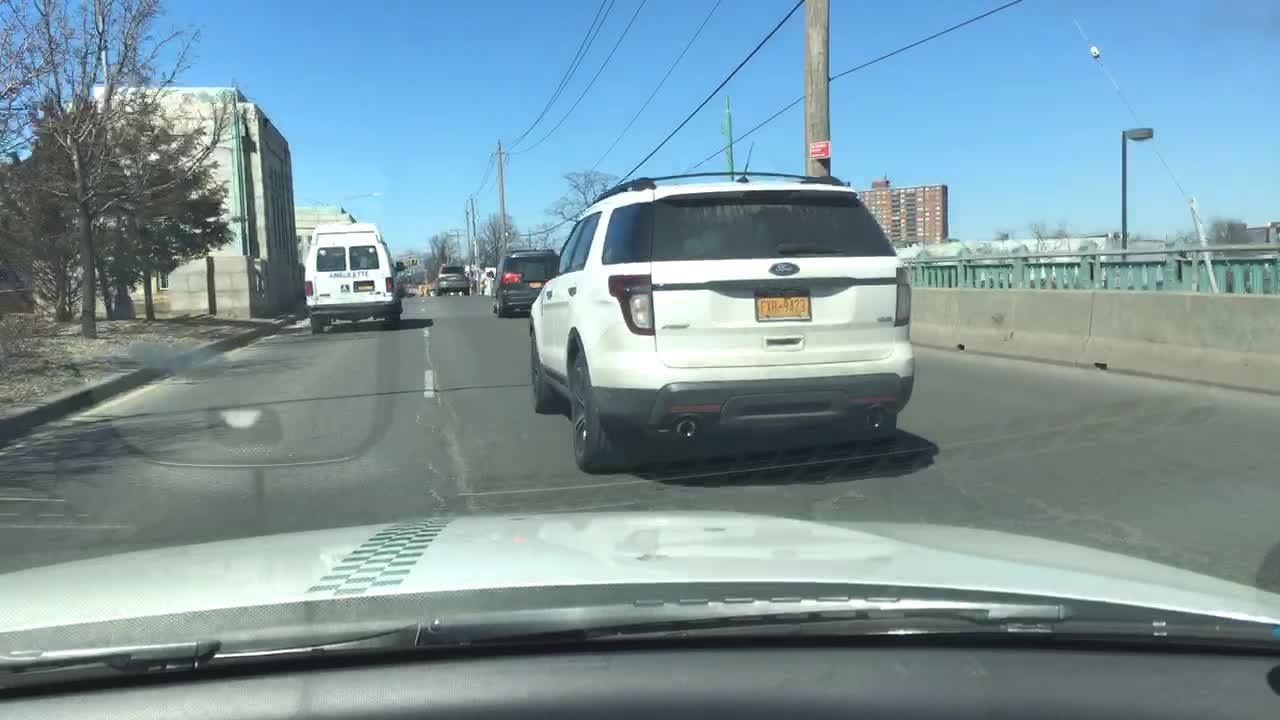ford: (759, 251, 808, 277)
